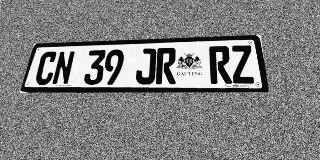3: (83, 50, 106, 85)
9: (102, 49, 125, 85)
C: (33, 51, 58, 85)
J: (135, 48, 156, 84)
N: (51, 51, 76, 85)
R: (209, 46, 232, 84), (155, 48, 176, 84)
Z: (230, 45, 256, 84)
